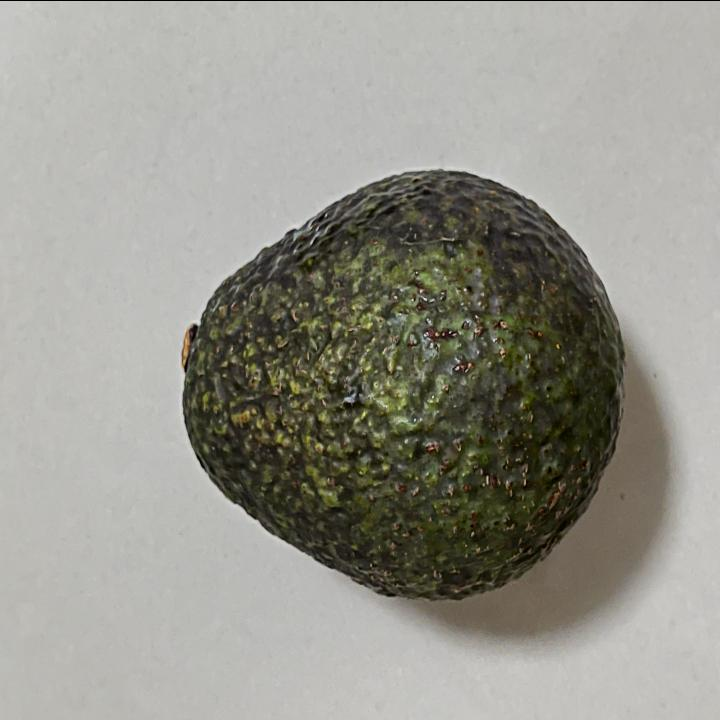Level1: (168, 152, 634, 618)
